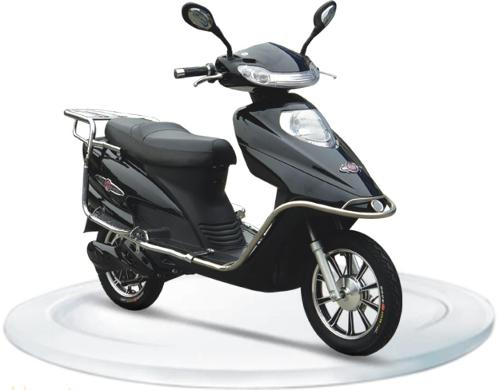MNV: (64, 7, 402, 356)
